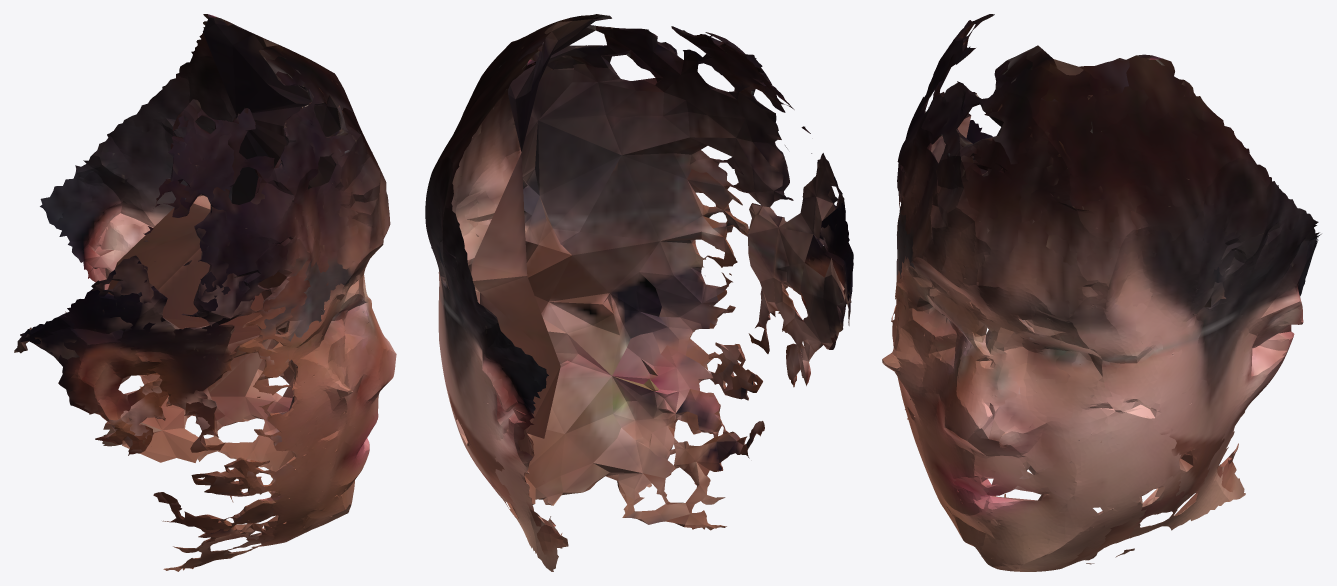
File: Trapoom_Photogrammetry.fbx
3 renders of one model, left to right at view 1: azimuth 30°, elevation 25°; view 2: azimuth 150°, elevation 25°; view 3: azimuth 270°, elevation 25°, orthographic. The views are drawn at different scales.
Parts seen in each view (by area): view 1: texturedMesh; view 2: texturedMesh; view 3: texturedMesh.
Part boxes in pixels (x1,y1,x2,y2): texturedMesh: (14, 14, 396, 571); texturedMesh: (425, 14, 853, 571); texturedMesh: (882, 14, 1321, 571).
Size of the model in its own units: 28.21 by 36.1 by 27.9.
Materials: 1 (1 with a texture image).
